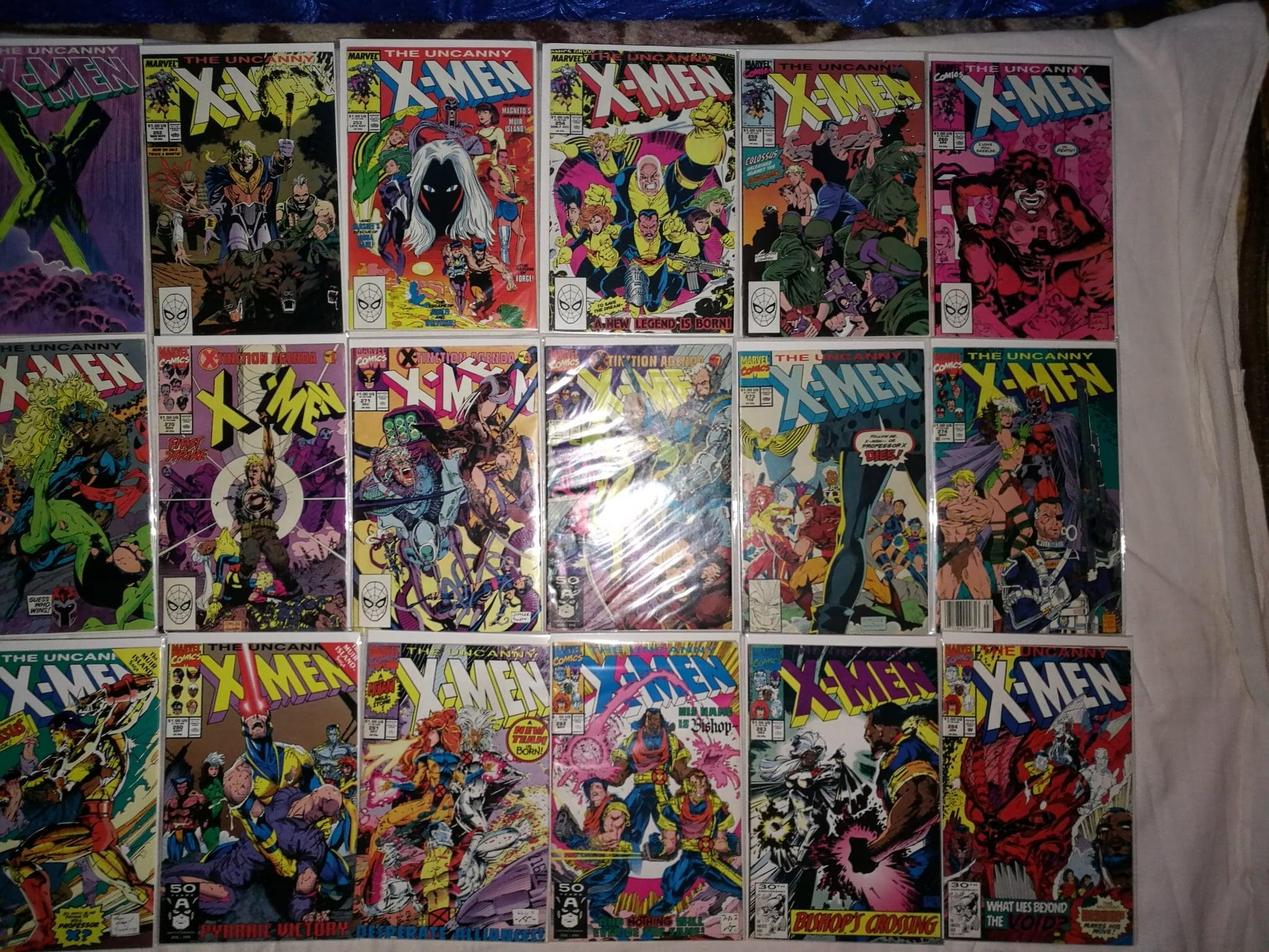comic: (156, 629, 362, 948), (141, 38, 347, 340), (356, 639, 553, 943), (549, 640, 745, 940), (339, 38, 539, 331), (747, 639, 940, 941), (943, 644, 1134, 945), (540, 46, 739, 332), (930, 343, 1122, 637), (738, 345, 931, 636), (156, 339, 348, 631), (353, 338, 542, 632), (546, 343, 732, 631), (739, 54, 928, 336), (930, 57, 1115, 343), (0, 641, 160, 949), (0, 336, 154, 633), (0, 40, 145, 334)
